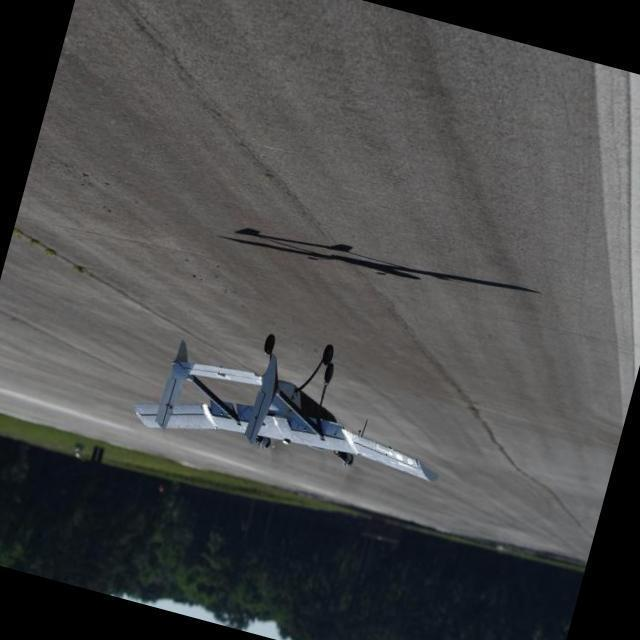iha: (94, 303, 450, 543)
